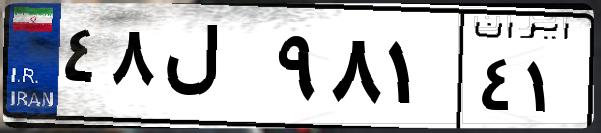1: (385, 28, 445, 110), (525, 38, 570, 115)
4: (57, 26, 110, 100), (475, 38, 525, 113)
8: (330, 28, 385, 110), (110, 28, 158, 98)
9: (270, 28, 330, 110)
ل: (158, 20, 270, 120)
